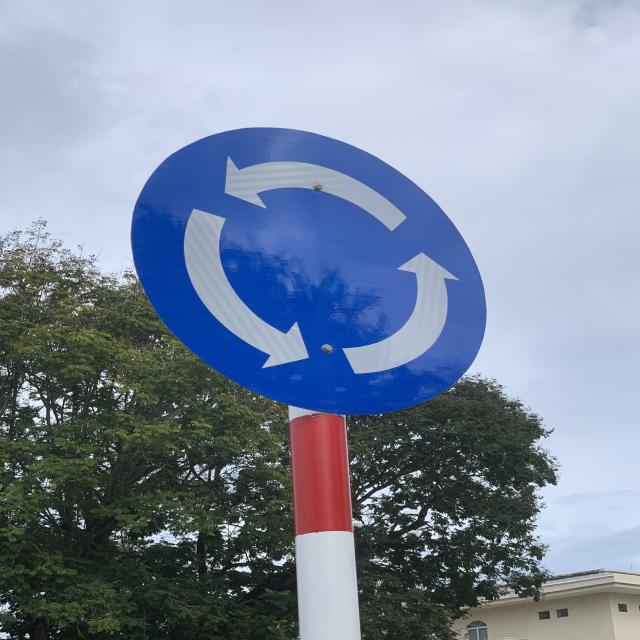Xe_Bus: (130, 125, 488, 418)
